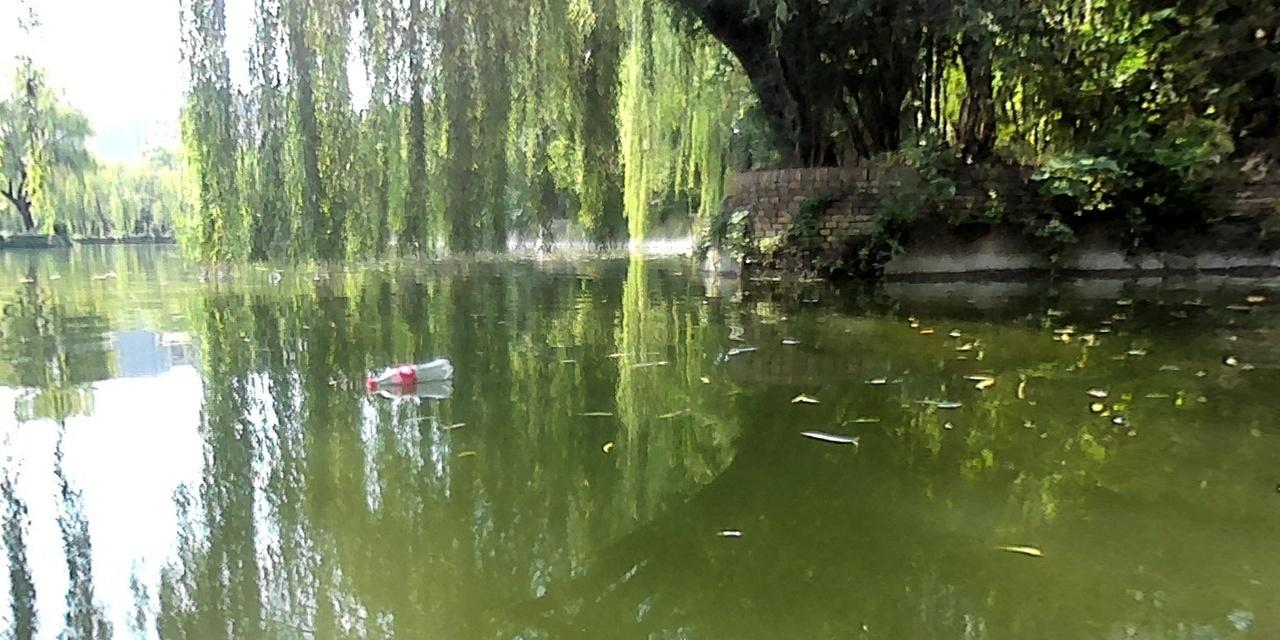bottle: (363, 354, 457, 390)
